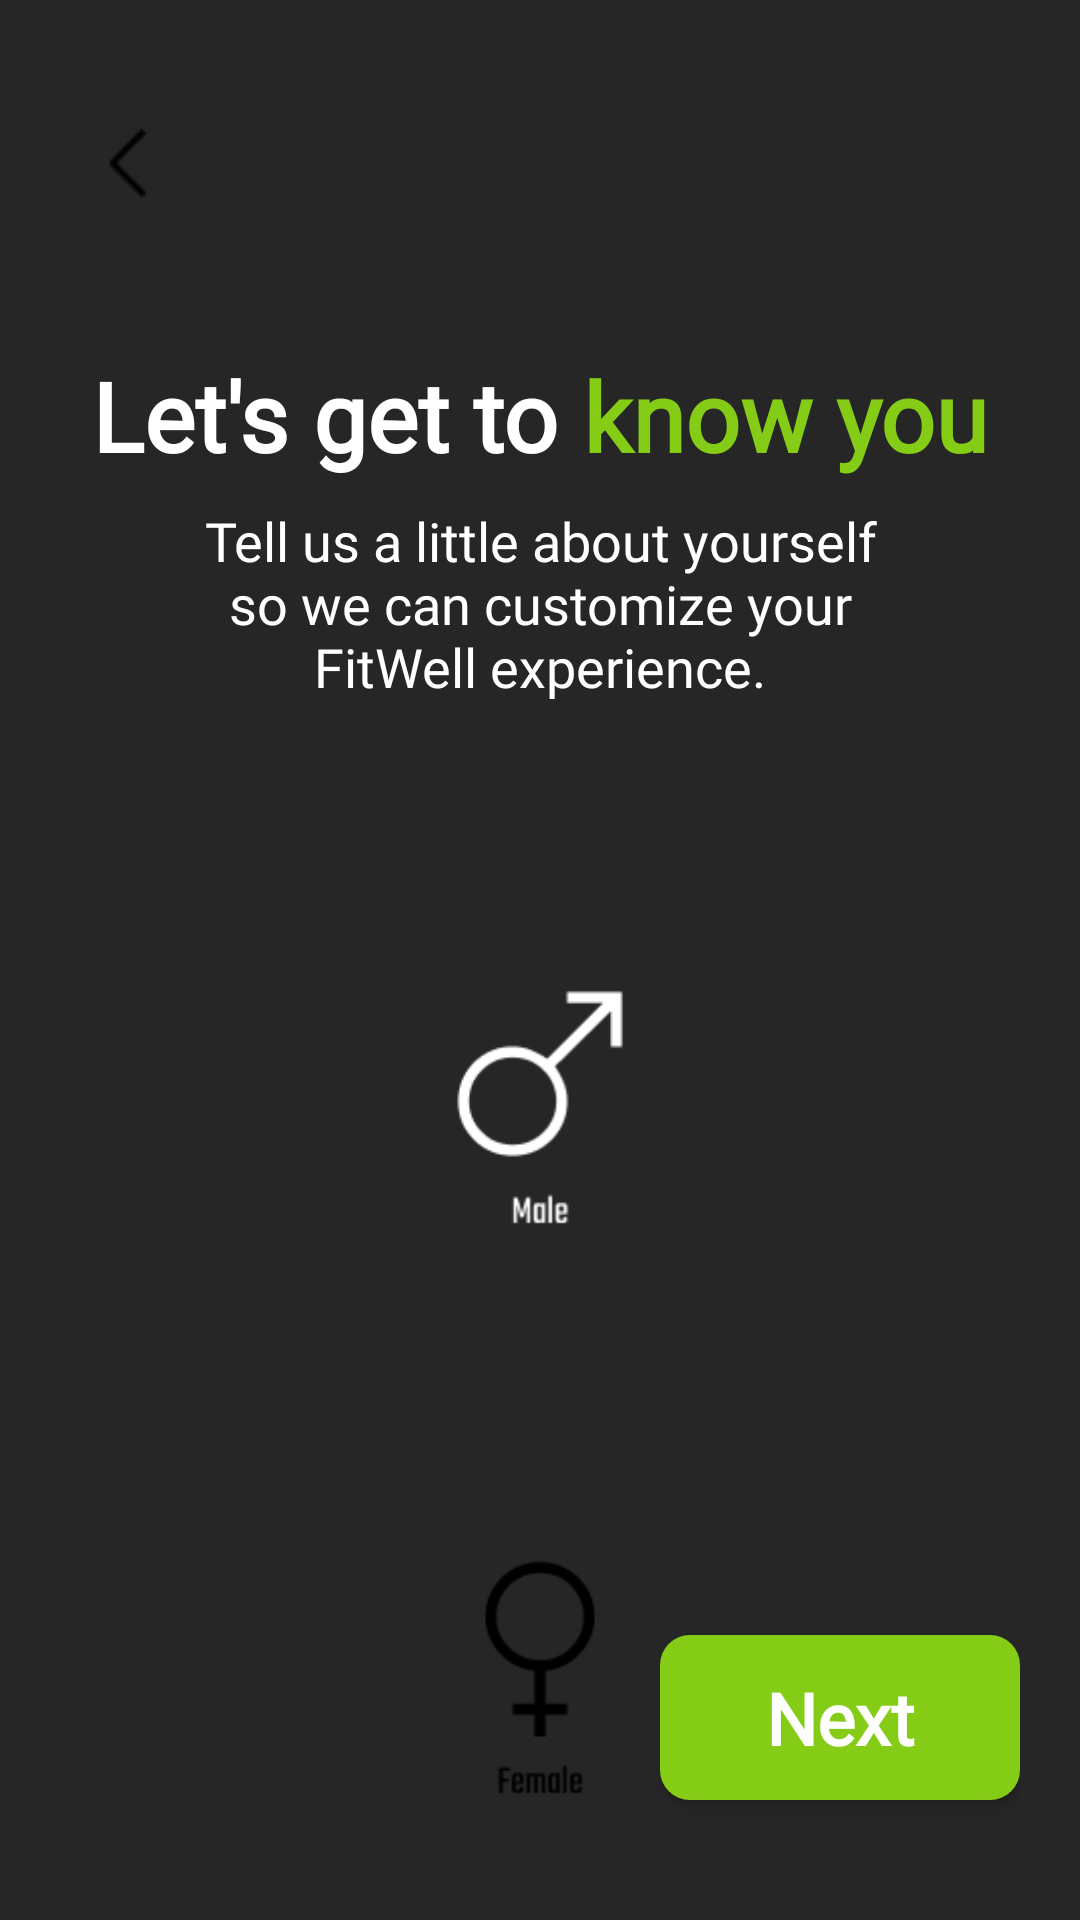

Icons on this 1080x1920 Android screen, each with the point to tap as (x,y):
backarrow: (128,162)
